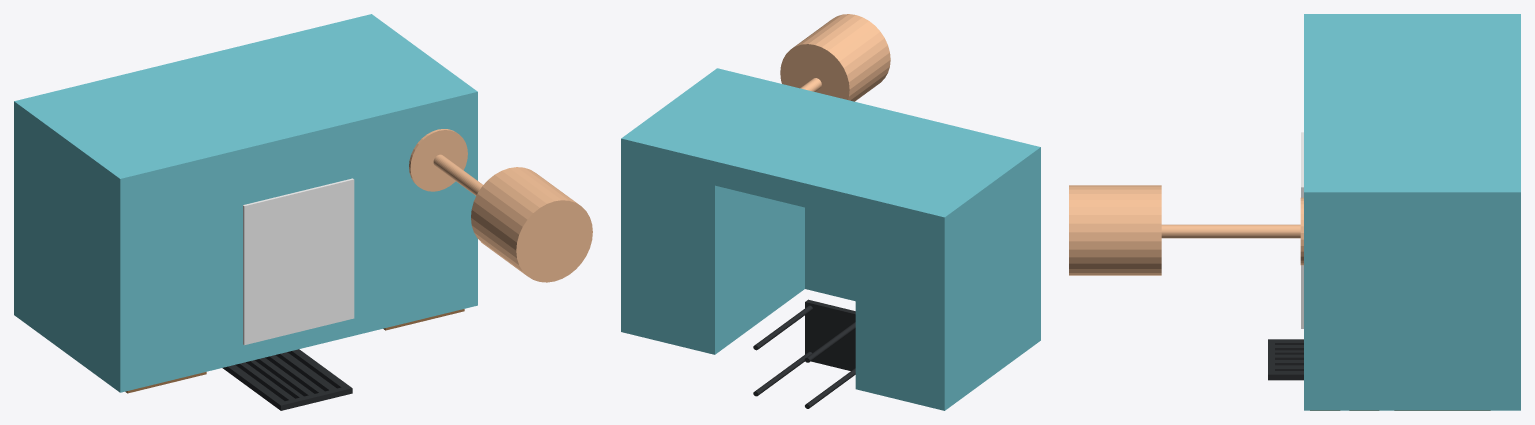
The model's file is tinker.obj.
3 renders of one model, left to right at view 1: azimuth 30°, elevation 25°; view 2: azimuth 150°, elevation 25°; view 3: azimuth 270°, elevation 25°, orthographic. The views are drawn at different scales.
Visible parts, largest first — view 1: group_0_7720667, group_0_16448250, group_0_16500122, group_0_2829873; view 2: group_0_7720667, group_0_16500122, group_0_2829873; view 3: group_0_7720667, group_0_16500122, group_0_2829873.
Boxes of the visible parts, <box> form: group_0_7720667: <box>14,14,477,392</box>; group_0_16448250: <box>243,178,354,345</box>; group_0_16500122: <box>409,129,592,282</box>; group_0_2829873: <box>222,349,352,410</box>; group_0_7720667: <box>621,68,1040,410</box>; group_0_16500122: <box>780,14,890,101</box>; group_0_2829873: <box>753,299,855,408</box>; group_0_7720667: <box>1304,14,1520,410</box>; group_0_16500122: <box>1069,185,1303,275</box>; group_0_2829873: <box>1268,339,1303,380</box>.
Size of the model in its own units: 70 by 47.5 by 75.
